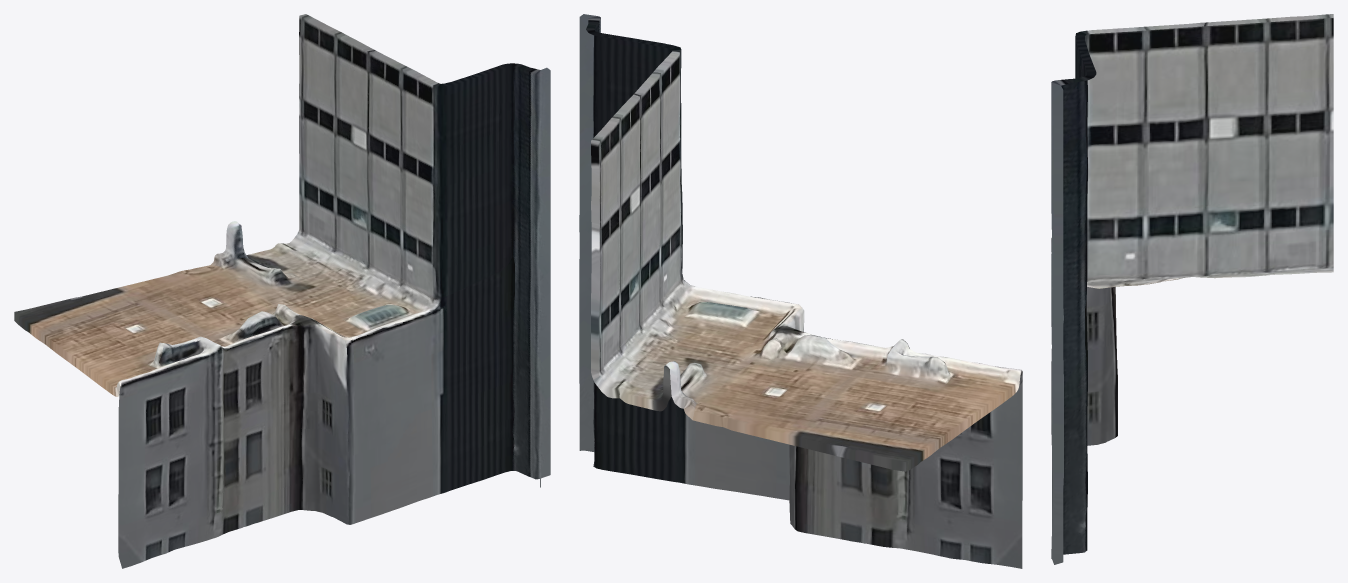
Rendered from z20-167758-405236-h1-yup-uvflip-v3-world.glb.
The picture shows the model from 3 angles, left to right: view 1: azimuth 30°, elevation 25°; view 2: azimuth 150°, elevation 25°; view 3: azimuth 270°, elevation 25°; orthographic projection. The views are drawn at different scales.
Size of the model in its own units: 30.16 by 28.52 by 15.04.
1 material, 1 textured.
